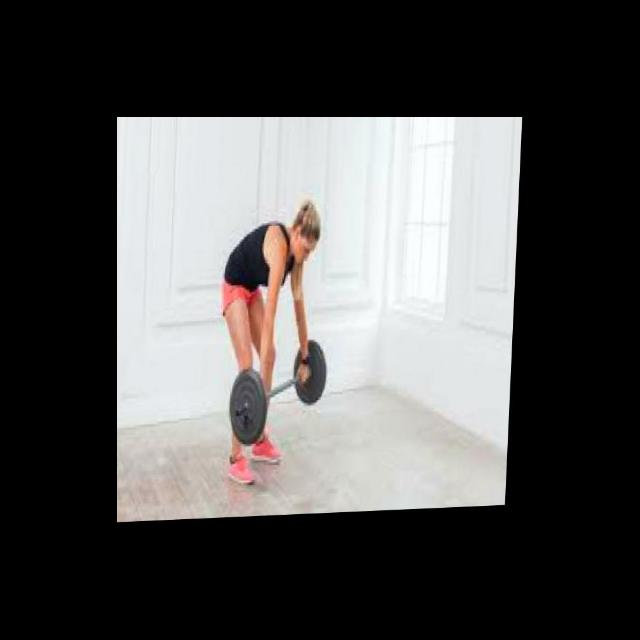barbell: (226, 367, 274, 453)
